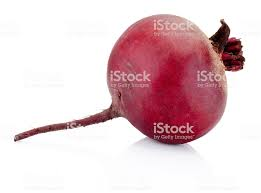beet: (15, 15, 244, 144)
